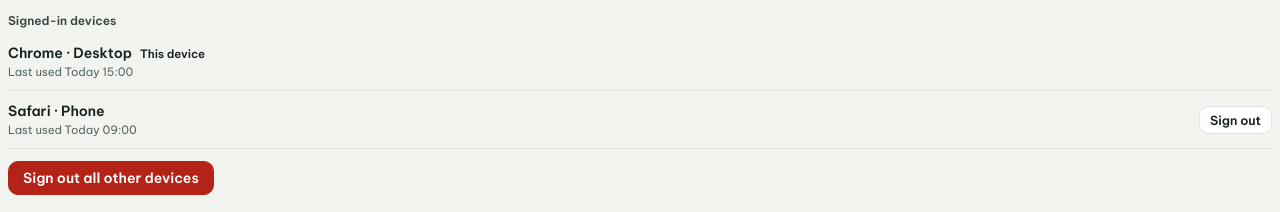
Test: Sign out all other devices (R18) › a read that finds no other device opens no dialog
This screenshot has width=1280, height=212.
Click the button "Sign out all other devices" at point(111, 178), box x1=8 y1=161 x2=214 y2=195
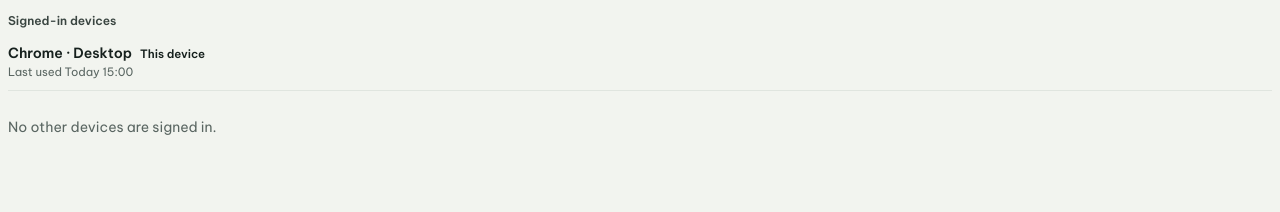
Expected: the text "No other devices are signed in." is shown, x1=8 y1=118 x2=217 y2=136
